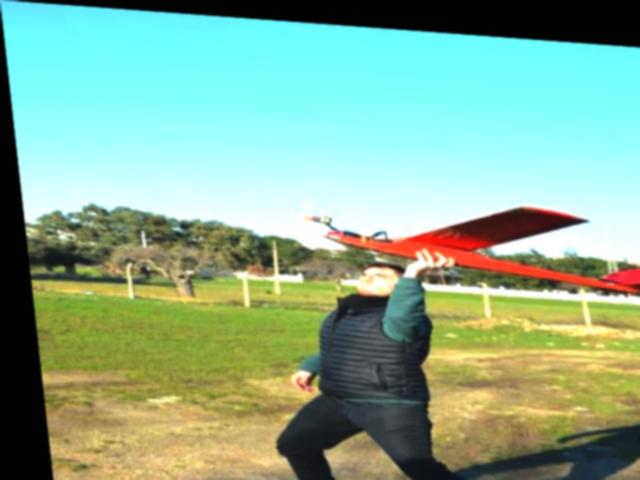iha: (288, 151, 640, 315)
